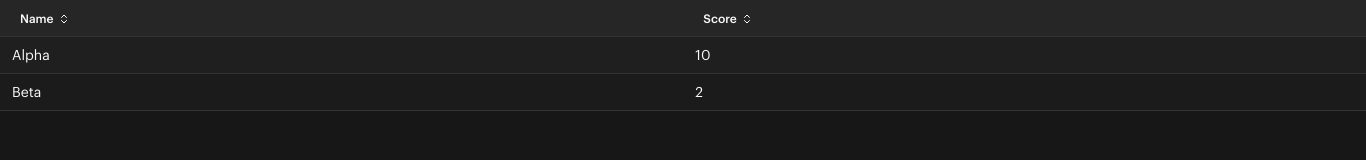
Test case: SpreadsheetRenderer › renders CSV rows with sortable columns
Check: the column heading "Name" is shown, box [0, 0, 683, 36]
Check: the cell "Alpha" is shown, box [0, 36, 683, 74]
Click the button "Score" at [728, 19], box [691, 11, 765, 27]
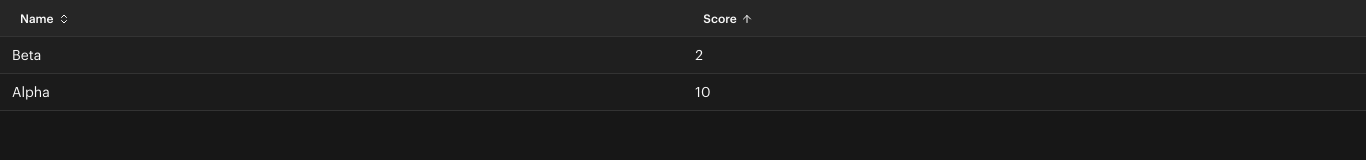
Check: the cell "Beta" is shown, box [0, 36, 683, 74]
Check: the cell "Alpha" is shown, box [0, 74, 683, 110]
